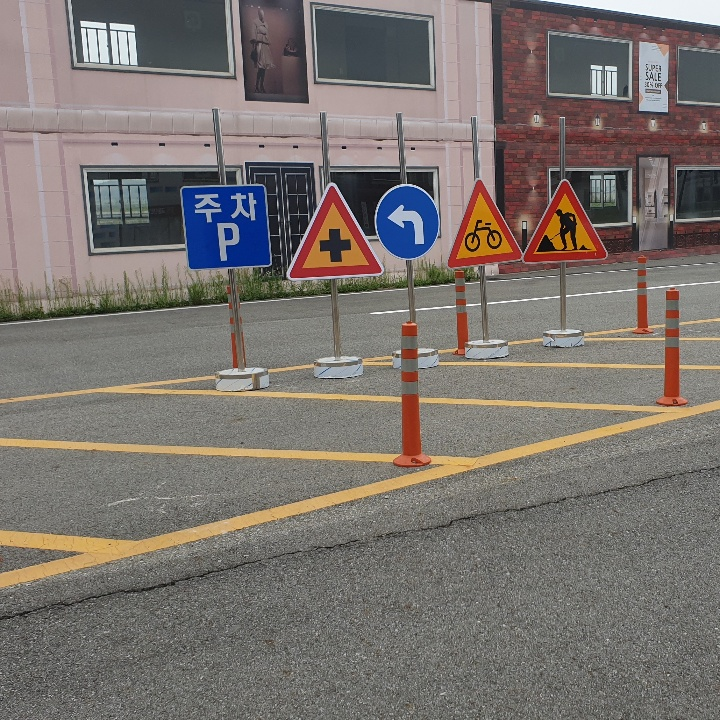bicycle: (452, 183, 525, 264)
const: (532, 202, 597, 253)
inter: (313, 224, 356, 268)
left: (381, 194, 431, 251)
parking: (210, 215, 246, 264)
